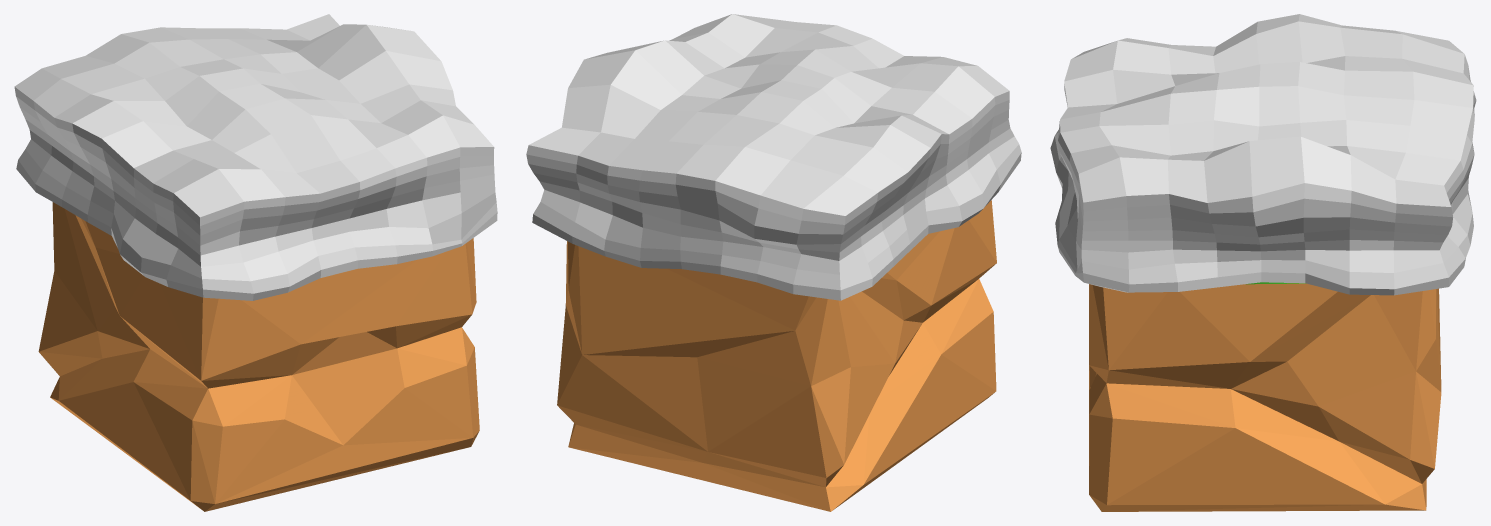
The model's file is TileHieloLvl2.fbx.
3 renders of one model, left to right at view 1: azimuth 30°, elevation 25°; view 2: azimuth 150°, elevation 25°; view 3: azimuth 270°, elevation 25°, orthographic. The views are drawn at different scales.
Visible parts, largest first — view 1: ThieloLVL2; view 2: ThieloLVL2; view 3: ThieloLVL2.
Boxes of the visible parts, x1,y1,x2,y2 form: ThieloLVL2: [14, 14, 497, 511]; ThieloLVL2: [526, 14, 1021, 511]; ThieloLVL2: [1050, 14, 1476, 511].
Bounding box in the file's own units: 122 × 118 × 123.
